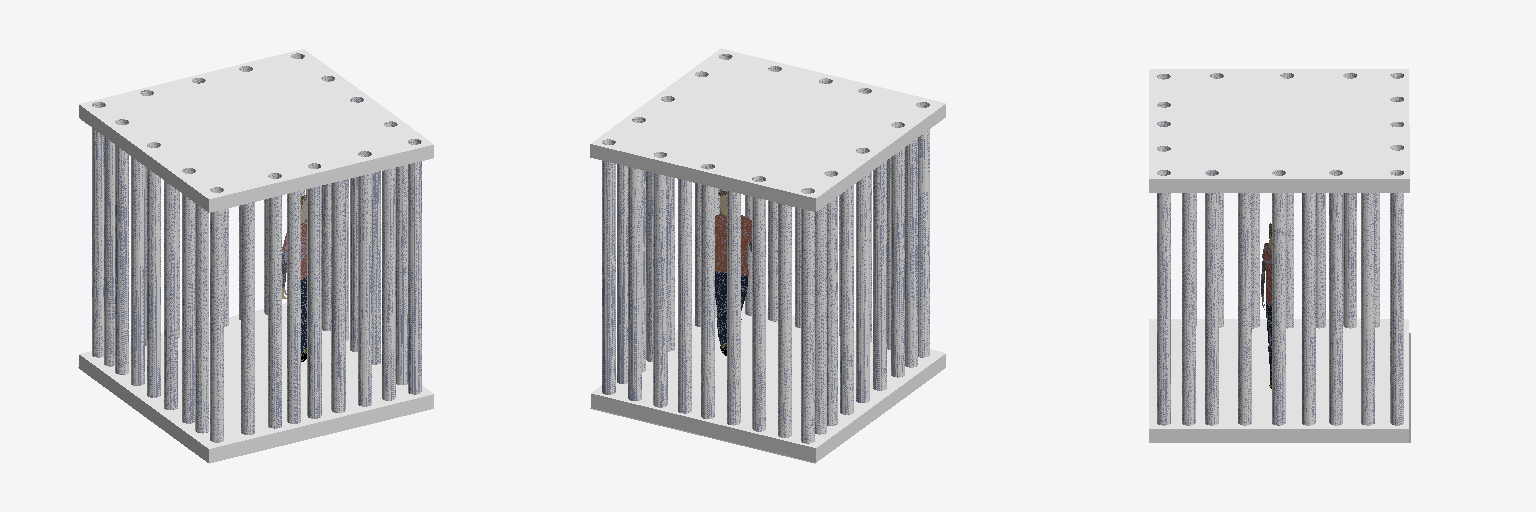
The model's file is Jaula2.obj.
3 views of the same model, side by side, from view 1: azimuth 30°, elevation 25°; view 2: azimuth 150°, elevation 25°; view 3: azimuth 270°, elevation 25° (orthographic).
Parts seen in each view (by area): view 1: 13, 16, 47, 31, 89, 100, 34, 97, 85, 93, 22, 69 (+28 smaller); view 2: 13, 16, 112, 59, 28, 103, 69, 38, 41, 106, 79, 109 (+28 smaller); view 3: 13, 16, 62, 9, 25, 51, 65, 5, 2, 55, 19, 44 (+13 smaller).
Part boxes in pixels (bbox=[...]): 13: bbox=[79, 49, 433, 212]; 16: bbox=[79, 303, 433, 463]; 47: bbox=[210, 187, 223, 442]; 31: bbox=[358, 151, 371, 406]; 89: bbox=[331, 181, 345, 412]; 100: bbox=[382, 168, 395, 400]; 34: bbox=[307, 163, 321, 418]; 97: bbox=[241, 202, 254, 434]; 85: bbox=[195, 203, 208, 432]; 93: bbox=[287, 191, 300, 423]; 22: bbox=[268, 173, 281, 428]; 69: bbox=[147, 142, 160, 397]; 13: bbox=[590, 48, 945, 211]; 16: bbox=[591, 304, 945, 462]; 112: bbox=[778, 203, 791, 437]; 59: bbox=[701, 164, 714, 418]; 28: bbox=[653, 152, 667, 407]; 103: bbox=[727, 191, 740, 425]; 69: bbox=[856, 148, 869, 402]; 38: bbox=[752, 176, 765, 431]; 41: bbox=[801, 188, 814, 443]; 106: bbox=[678, 179, 691, 413]; 79: bbox=[840, 185, 853, 414]; 109: bbox=[628, 167, 641, 400]; 13: bbox=[1149, 69, 1409, 192]; 16: bbox=[1149, 319, 1408, 442]; 62: bbox=[1361, 193, 1374, 425]; 9: bbox=[1272, 170, 1285, 425]; 25: bbox=[1329, 170, 1342, 425]; 51: bbox=[1238, 193, 1251, 425]; 65: bbox=[1182, 193, 1195, 425]; 5: bbox=[1205, 170, 1218, 425]; 2: bbox=[1157, 170, 1170, 425]; 55: bbox=[1302, 193, 1315, 425]; 19: bbox=[1390, 170, 1403, 425]; 44: bbox=[1343, 73, 1356, 327].
Size of the model in its own units: 172 by 192 by 173.